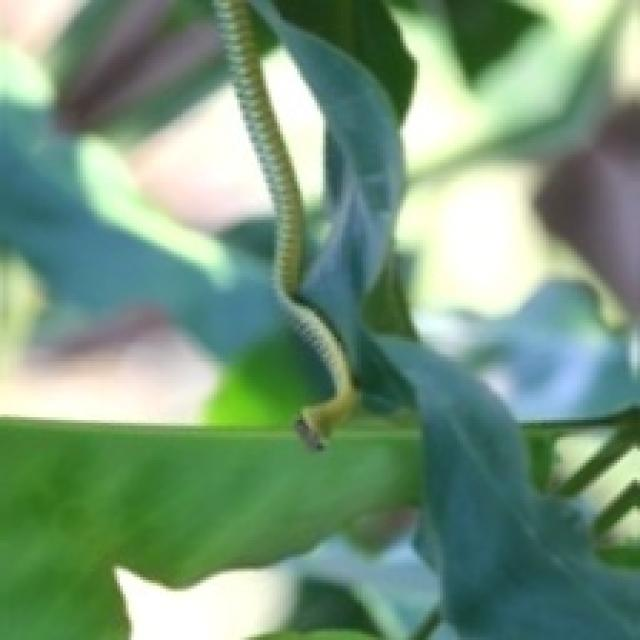paradise tree snake: (214, 0, 354, 446)
